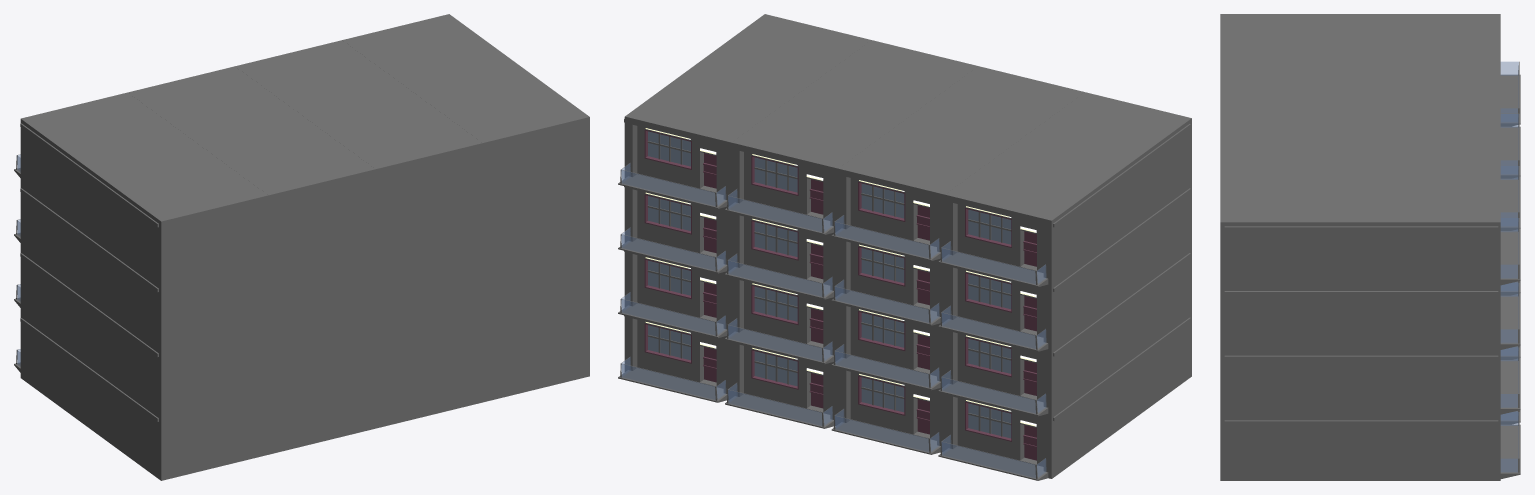
File: Chanice.fbx
The picture shows the model from 3 angles, left to right: view 1: azimuth 30°, elevation 25°; view 2: azimuth 150°, elevation 25°; view 3: azimuth 270°, elevation 25°; orthographic projection.
Visible parts, largest first — view 1: Chanice; view 2: Chanice; view 3: Chanice.
Part boxes in pixels (<box>): Chanice: <box>14,14,589,480</box>; Chanice: <box>618,14,1191,480</box>; Chanice: <box>1220,14,1520,480</box>.
Size of the model in its own units: 591 by 339 by 357.
